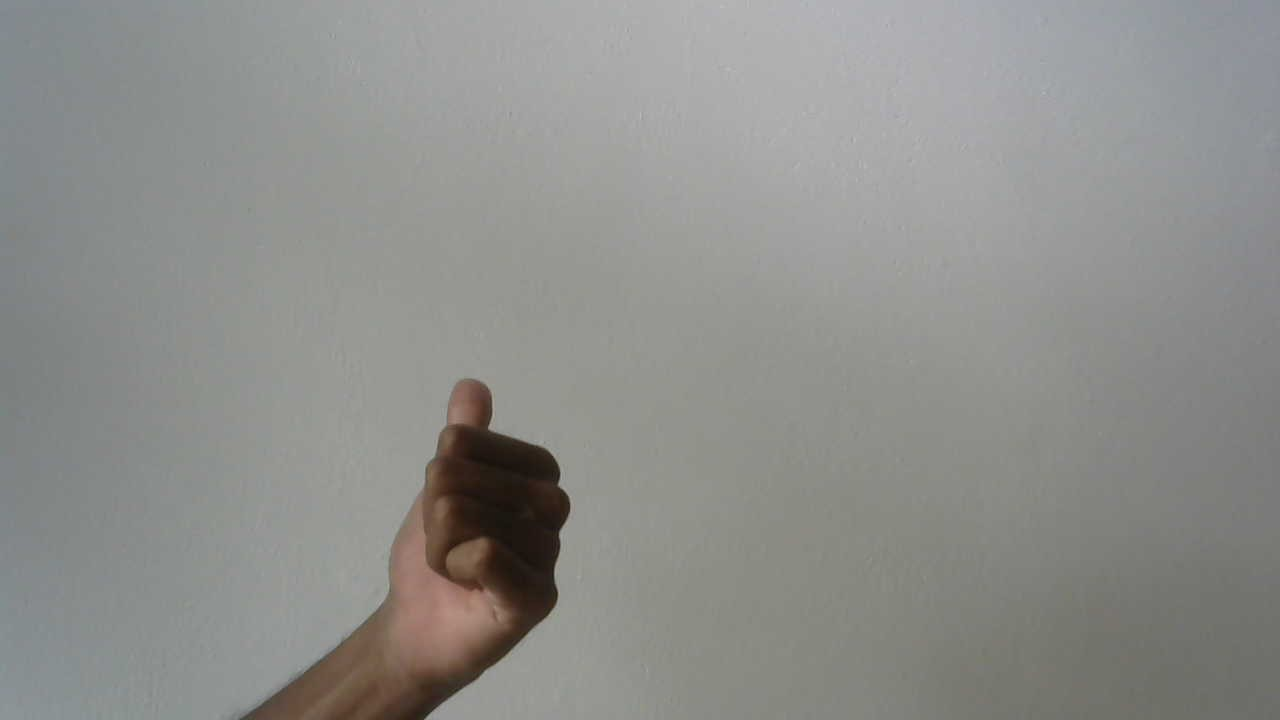thumbsup: (382, 359, 581, 695)
